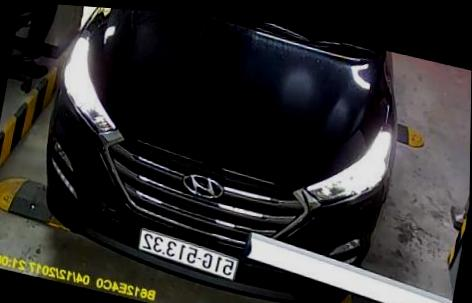License_Plate: (129, 227, 242, 284)
